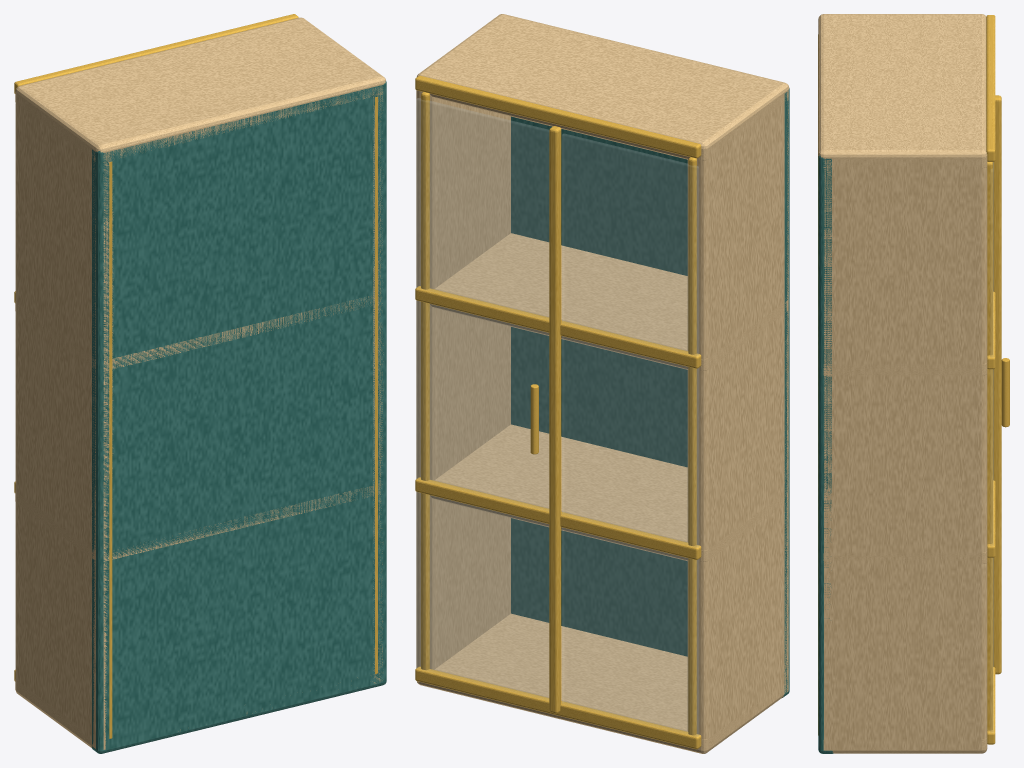
The model's file is display-cabinet.glb.
3 views of the same model, side by side, from view 1: azimuth 30°, elevation 25°; view 2: azimuth 150°, elevation 25°; view 3: azimuth 270°, elevation 25° (orthographic).
Parts seen in each view (by area): view 1: Display_Back, Display_Post, Display_Shelf.003, Display_Shelf.002, Display_Shelf.001, Display_Brass_Post, Display_Post.001, Display_Brass_Post.001, Display_Shelf_Trim.003, Display_Shelf; view 2: Display_Glass_Left, Display_Glass_Right, Display_Back, Display_Post, Display_Post.001, Display_Shelf.003, Display_Shelf, Display_Shelf.002, Display_Shelf.001, Display_Door_Mullion, Display_Brass_Post.001, Display_Brass_Post (+5 smaller); view 3: Display_Post.001, Display_Shelf.003, Display_Back, Display_Door_Mullion, Display_Brass_Post.001, Display_Glass_Right, Display_Shelf.002, Display_Shelf_Trim.003, Display_Shelf.001, Display_Shelf, Display_Handle.
Part boxes in pixels (x1,y1,x2,y2): Display_Back: [91, 81, 386, 753]; Display_Post: [15, 95, 113, 749]; Display_Shelf.003: [15, 17, 385, 160]; Display_Shelf.002: [15, 296, 381, 370]; Display_Shelf.001: [15, 484, 382, 561]; Display_Brass_Post: [109, 161, 112, 738]; Display_Post.001: [373, 86, 383, 683]; Display_Brass_Post.001: [375, 96, 377, 673]; Display_Shelf_Trim.003: [14, 14, 298, 93]; Display_Shelf: [15, 677, 372, 748]; Display_Glass_Left: [562, 134, 698, 736]; Display_Glass_Right: [416, 98, 548, 700]; Display_Back: [511, 88, 789, 697]; Display_Post: [687, 92, 788, 741]; Display_Post.001: [416, 90, 510, 669]; Display_Shelf.003: [417, 14, 789, 160]; Display_Shelf: [417, 613, 787, 753]; Display_Shelf.002: [418, 233, 788, 370]; Display_Shelf.001: [418, 424, 788, 561]; Display_Door_Mullion: [549, 126, 561, 713]; Display_Brass_Post.001: [421, 92, 429, 670]; Display_Brass_Post: [688, 157, 696, 735]; Display_Post.001: [824, 159, 987, 750]; Display_Shelf.003: [818, 14, 987, 168]; Display_Back: [818, 155, 833, 753]; Display_Door_Mullion: [993, 95, 1001, 674]; Display_Brass_Post.001: [818, 162, 992, 735]; Display_Glass_Right: [990, 162, 993, 732]; Display_Shelf.002: [823, 362, 987, 375]; Display_Shelf_Trim.003: [986, 15, 995, 161]; Display_Shelf.001: [823, 551, 987, 563]; Display_Shelf: [823, 738, 987, 753]; Display_Handle: [1001, 358, 1009, 427].
Bounding box in the file's own units: 1.45 × 2.93 × 0.8385.
Materials: 4 (3 with a texture image).
